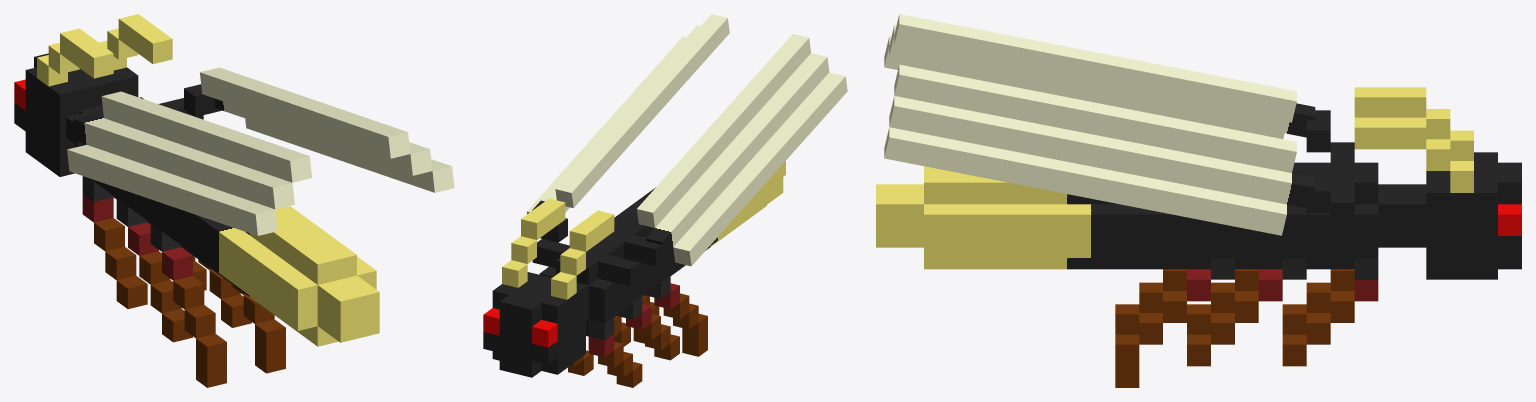
File: Avispa.dae
3 views of the same model, side by side, from view 1: azimuth 30°, elevation 25°; view 2: azimuth 150°, elevation 25°; view 3: azimuth 270°, elevation 25° (orthographic). The views are drawn at different scales.
Parts seen in each view (by area): view 1: Avispa-local, Avispa (2)-local; view 2: Avispa-local, Avispa (2)-local; view 3: Avispa-local, Avispa (2)-local.
Part boxes in pixels (box(x1,y1,x2,y2)): Avispa-local: box(14, 14, 379, 387); Avispa (2)-local: box(67, 67, 454, 235); Avispa-local: box(483, 161, 785, 387); Avispa (2)-local: box(527, 14, 847, 266); Avispa-local: box(876, 87, 1521, 387); Avispa (2)-local: box(884, 14, 1315, 235).
Size of the model in its own units: 10 by 14.92 by 27.
2 materials, 2 textured.
